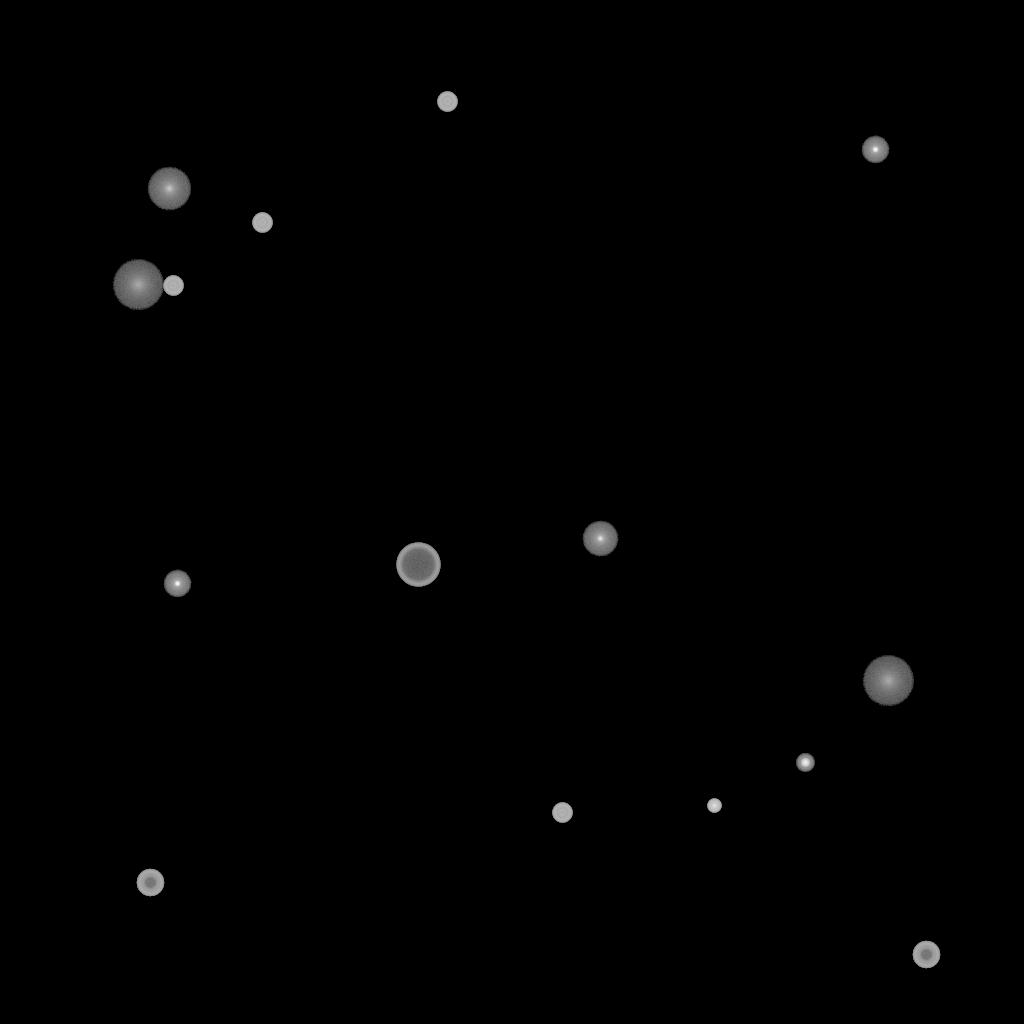depth:-10: (861, 136, 889, 164), (163, 570, 191, 598)
depth:-20: (796, 754, 814, 772)
depth:-30: (707, 799, 721, 813)
depth:-40: (163, 276, 183, 296), (252, 213, 272, 233), (437, 92, 457, 112), (552, 803, 572, 823)
depth:-50: (912, 941, 940, 969), (136, 869, 164, 897)
depth:-70: (396, 543, 440, 587)
depth:0: (582, 521, 618, 557)
depth:10: (147, 167, 191, 211)
depth:20: (862, 656, 914, 706), (112, 260, 164, 310)
